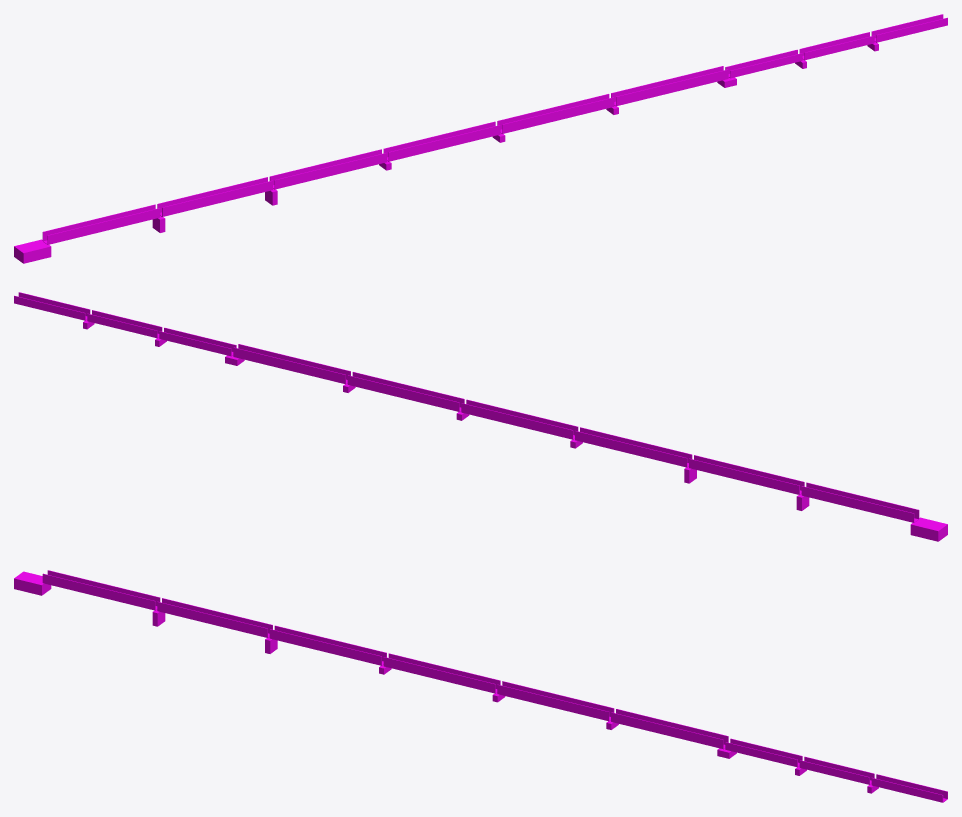
The model's file is bridge_rail_1891_1912.colliders.glb.
The picture shows the model from 3 angles, top to bottom: view 1: azimuth 30°, elevation 25°; view 2: azimuth 150°, elevation 25°; view 3: azimuth 330°, elevation 25°; orthographic projection.
Visible parts, largest first — view 1: rail_collider_truss_S_span_01, rail_collider_truss_S_span_06, rail_collider_truss_S_span_04, rail_collider_truss_S_span_05, rail_collider_truss_S_span_03, rail_collider_truss_S_span_02, rail_collider_abutment_west, rail_collider_truss_N_span_01, rail_collider_truss_N_span_05, rail_collider_truss_N_span_06, rail_collider_truss_N_span_04, rail_collider_truss_N_span_03 (+4 smaller); view 2: rail_collider_truss_N_span_01, rail_collider_truss_N_span_06, rail_collider_truss_N_span_04, rail_collider_truss_N_span_05, rail_collider_truss_N_span_03, rail_collider_truss_N_span_02, rail_collider_abutment_west, rail_collider_truss_S_span_01, rail_collider_truss_S_span_05, rail_collider_truss_S_span_06, rail_collider_truss_S_span_04, rail_collider_truss_S_span_03 (+4 smaller); view 3: rail_collider_truss_S_span_01, rail_collider_truss_S_span_06, rail_collider_truss_S_span_03, rail_collider_truss_S_span_04, rail_collider_truss_S_span_05, rail_collider_truss_S_span_02, rail_collider_truss_N_span_06, rail_collider_abutment_west, rail_collider_truss_N_span_01, rail_collider_truss_N_span_03, rail_collider_truss_N_span_04, rail_collider_truss_N_span_05 (+4 smaller).
Boxes of the visible parts, x1=… form: rail_collider_truss_S_span_01: x1=47, y1=208, x2=160, y2=244; rail_collider_truss_S_span_06: x1=616, y1=69, x2=728, y2=105; rail_collider_truss_S_span_04: x1=388, y1=125, x2=500, y2=161; rail_collider_truss_S_span_05: x1=502, y1=97, x2=614, y2=133; rail_collider_truss_S_span_03: x1=274, y1=153, x2=386, y2=189; rail_collider_truss_S_span_02: x1=162, y1=180, x2=272, y2=216; rail_collider_abutment_west: x1=14, y1=239, x2=51, y2=263; rail_collider_truss_N_span_01: x1=42, y1=204, x2=155, y2=241; rail_collider_truss_N_span_05: x1=497, y1=94, x2=609, y2=129; rail_collider_truss_N_span_06: x1=611, y1=66, x2=723, y2=101; rail_collider_truss_N_span_04: x1=383, y1=121, x2=495, y2=157; rail_collider_truss_N_span_03: x1=269, y1=149, x2=381, y2=184; rail_collider_truss_N_span_01: x1=801, y1=486, x2=914, y2=522; rail_collider_truss_N_span_06: x1=233, y1=347, x2=345, y2=383; rail_collider_truss_N_span_04: x1=461, y1=403, x2=573, y2=439; rail_collider_truss_N_span_05: x1=347, y1=375, x2=459, y2=411; rail_collider_truss_N_span_03: x1=575, y1=431, x2=687, y2=467; rail_collider_truss_N_span_02: x1=689, y1=458, x2=799, y2=494; rail_collider_abutment_west: x1=910, y1=517, x2=947, y2=541; rail_collider_truss_S_span_01: x1=806, y1=482, x2=919, y2=519; rail_collider_truss_S_span_05: x1=352, y1=372, x2=464, y2=407; rail_collider_truss_S_span_06: x1=238, y1=344, x2=350, y2=379; rail_collider_truss_S_span_04: x1=466, y1=399, x2=578, y2=435; rail_collider_truss_S_span_03: x1=580, y1=427, x2=692, y2=462; rail_collider_truss_S_span_01: x1=42, y1=573, x2=155, y2=610; rail_collider_truss_S_span_06: x1=611, y1=712, x2=723, y2=748; rail_collider_truss_S_span_03: x1=269, y1=629, x2=381, y2=665; rail_collider_truss_S_span_04: x1=383, y1=657, x2=495, y2=693; rail_collider_truss_S_span_05: x1=497, y1=684, x2=609, y2=720; rail_collider_truss_S_span_02: x1=157, y1=601, x2=267, y2=637; rail_collider_truss_N_span_06: x1=616, y1=709, x2=728, y2=744; rail_collider_abutment_west: x1=14, y1=571, x2=51, y2=595; rail_collider_truss_N_span_01: x1=47, y1=570, x2=160, y2=605; rail_collider_truss_N_span_03: x1=274, y1=625, x2=386, y2=661; rail_collider_truss_N_span_04: x1=388, y1=653, x2=500, y2=688; rail_collider_truss_N_span_05: x1=502, y1=681, x2=614, y2=716.
Size of the model in its own units: 1065 by 26 by 19.
